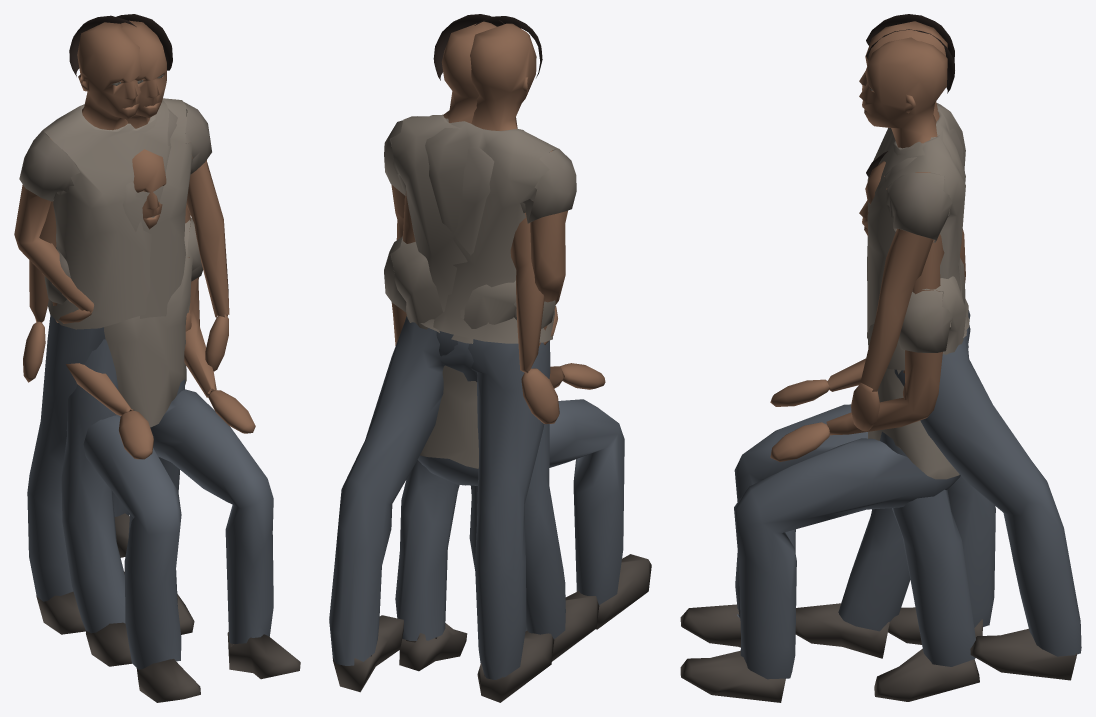
The model's file is crowd-10-far.glb.
3 views of the same model, side by side, from view 1: azimuth 30°, elevation 25°; view 2: azimuth 150°, elevation 25°; view 3: azimuth 270°, elevation 25° (orthographic). The views are drawn at different scales.
Visible parts, largest first — view 1: seated, standing, walking; view 2: standing, walking, seated; view 3: walking, seated, standing.
Boxes of the visible parts, left/top/right/bottom form: seated: left=44, top=149, right=300, bottom=702; standing: left=14, top=15, right=194, bottom=634; walking: left=23, top=14, right=229, bottom=666; standing: left=395, top=16, right=576, bottom=702; walking: left=329, top=14, right=599, bottom=692; seated: left=384, top=236, right=651, bottom=629; walking: left=795, top=29, right=1081, bottom=680; seated: left=680, top=151, right=966, bottom=702; standing: left=859, top=14, right=995, bottom=701.
Size of the model in its own units: 0.5394 by 1.76 by 0.9891.
